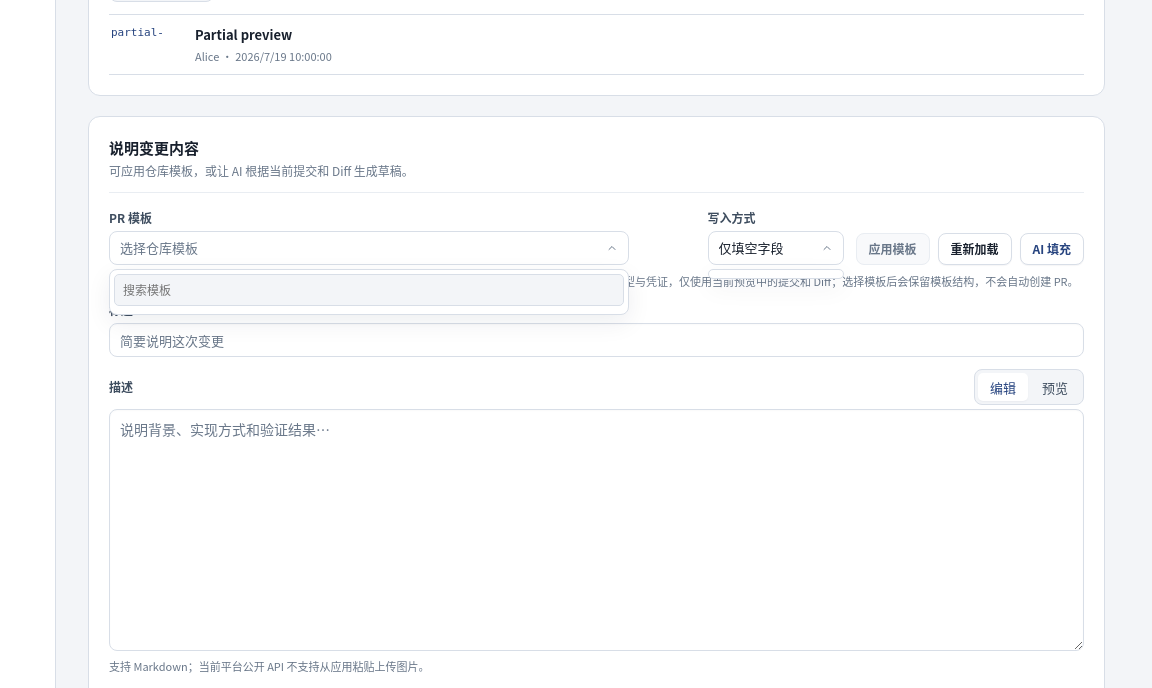
it: PrNewPage › Compare 补页失败时展示可排障的降级提示且仍允许创建
(page scrolled)
Type "Large change" into the field with placeholder "简要说明这次变更" at {"x": 596, "y": 340}, box left=109, top=323, right=1084, bottom=357
(page scrolled)
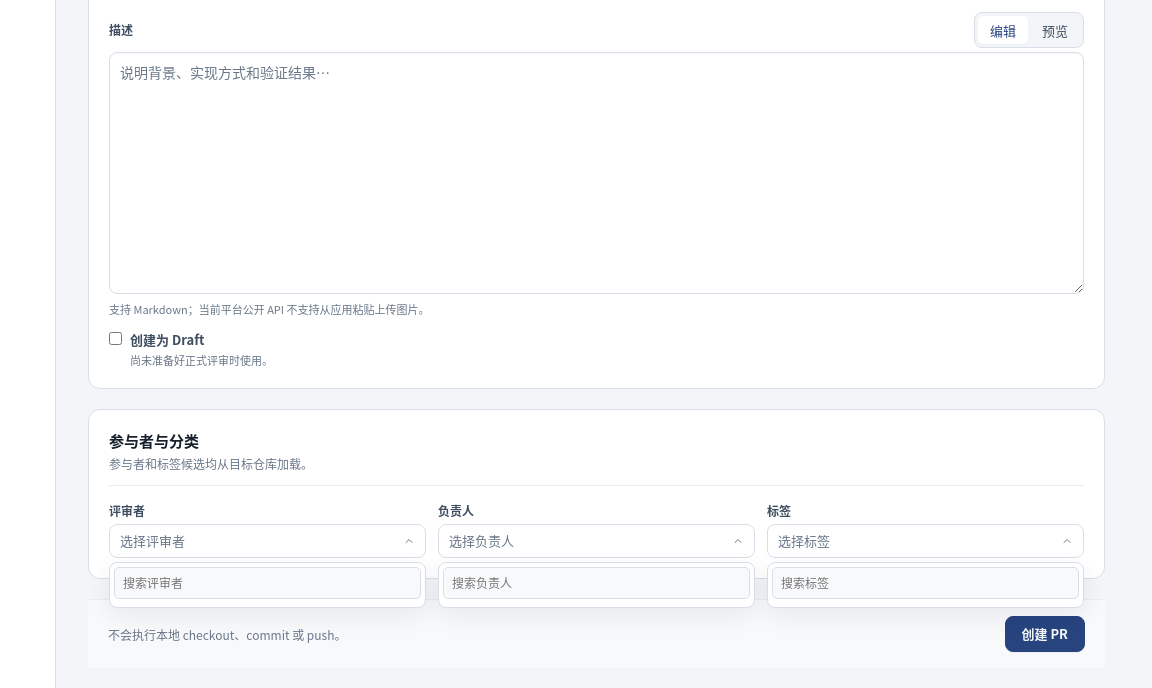
Expected: the submit button is enabled, left=1004, top=616, right=1085, bottom=652
